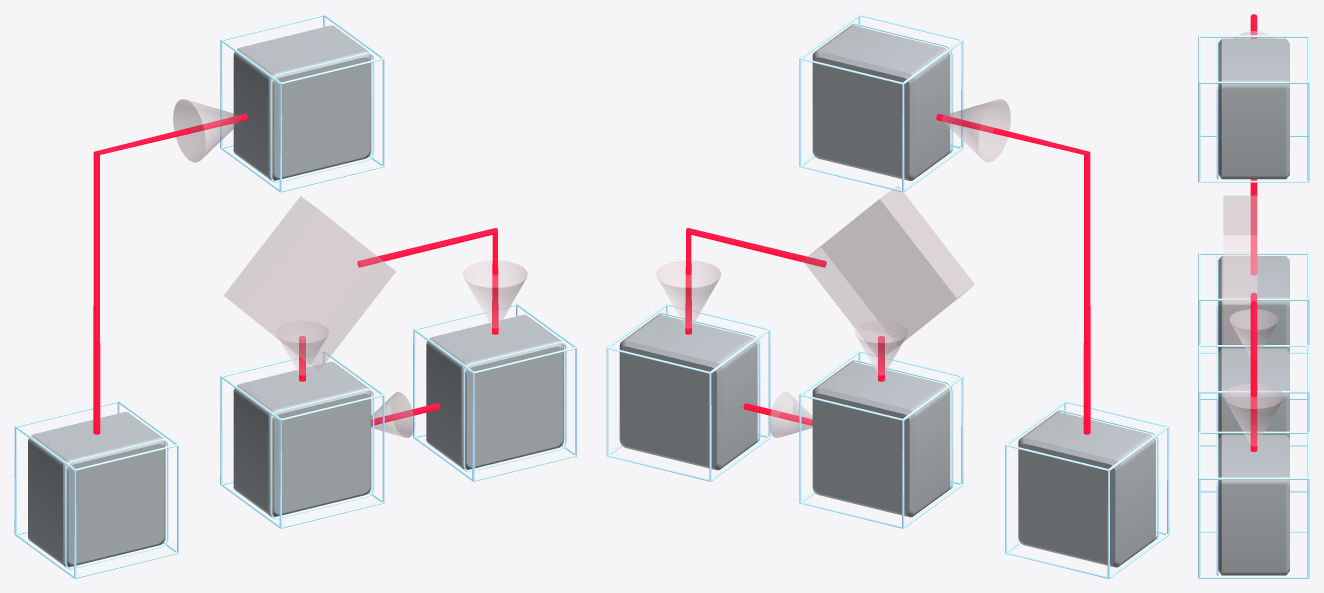
The model's file is 17-workflow.glb.
The picture shows the model from 3 angles, left to right: view 1: azimuth 30°, elevation 25°; view 2: azimuth 150°, elevation 25°; view 3: azimuth 270°, elevation 25°; orthographic projection. The views are drawn at different scales.
Visible parts, largest first — view 1: BC thin clear technical glass, BC subtle ruby technical glass, BC cool glass edge, BC ruby signal edge; view 2: BC thin clear technical glass, BC subtle ruby technical glass, BC cool glass edge, BC ruby signal edge; view 3: BC thin clear technical glass, BC subtle ruby technical glass, BC cool glass edge, BC ruby signal edge.
Boxes of the visible parts, box(x1,y1,x2,y2) form: BC thin clear technical glass: box(28, 25, 564, 567); BC subtle ruby technical glass: box(173, 99, 527, 437); BC cool glass edge: box(14, 14, 577, 578); BC ruby signal edge: box(93, 113, 498, 434); BC thin clear technical glass: box(619, 25, 1155, 567); BC subtle ruby technical glass: box(656, 99, 1010, 437); BC cool glass edge: box(606, 14, 1169, 578); BC ruby signal edge: box(685, 113, 1090, 434); BC thin clear technical glass: box(1218, 38, 1289, 575); BC subtle ruby technical glass: box(1223, 31, 1283, 445); BC cool glass edge: box(1198, 35, 1309, 578); BC ruby signal edge: box(1250, 14, 1257, 451).
Size of the model in its own units: 1.96 by 1.66 by 0.4086.
